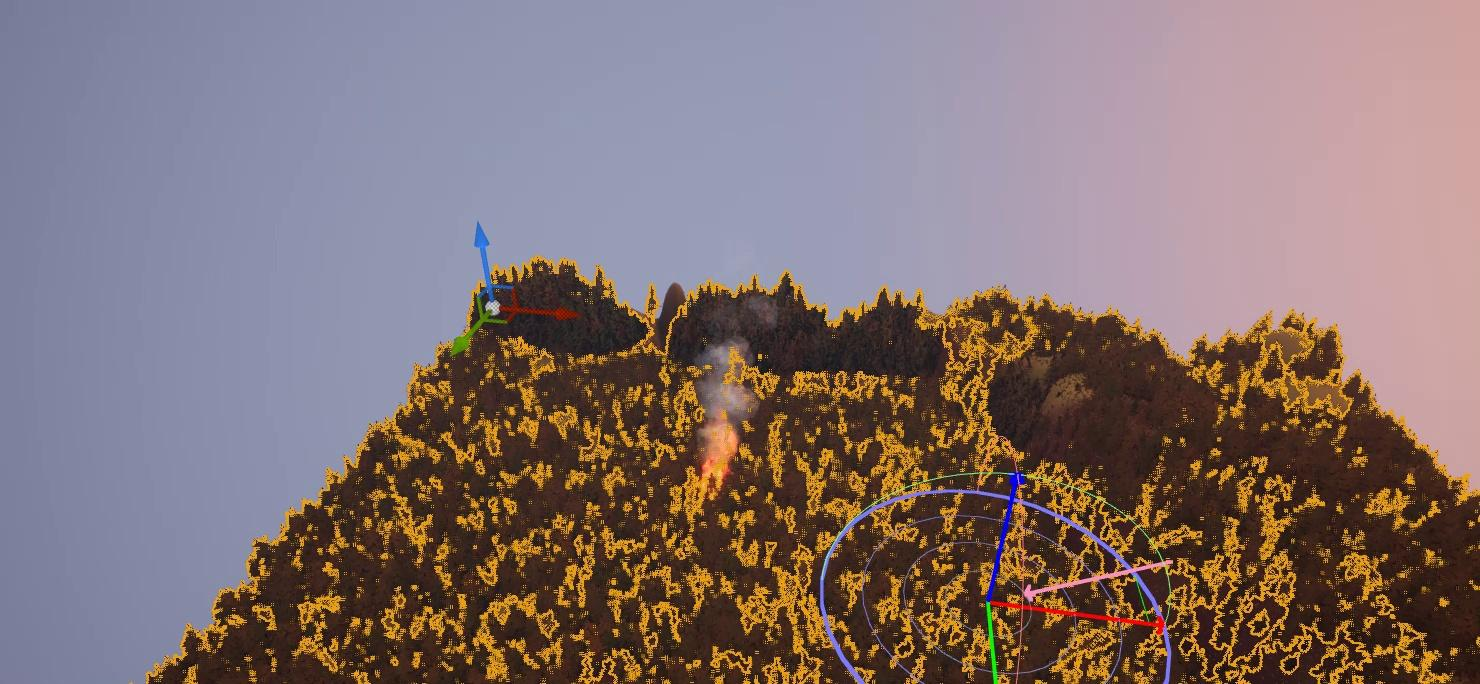fire: (700, 437, 736, 491)
smoke: (695, 337, 764, 440)
